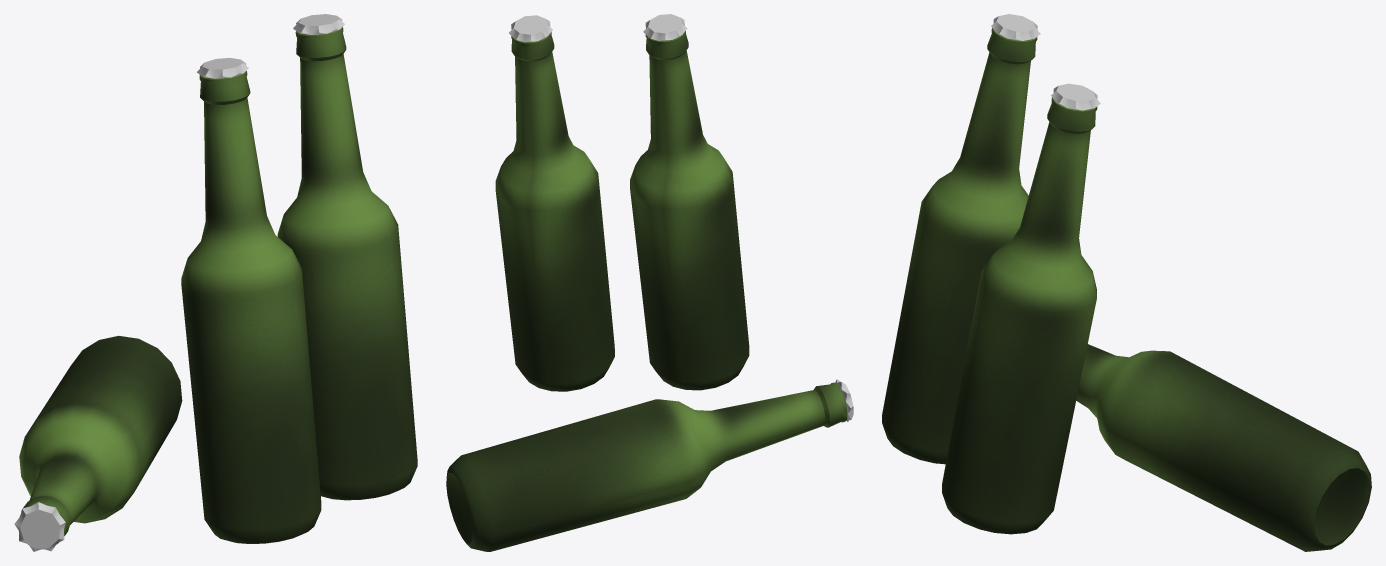
Rendered from soju15.obj.
The picture shows the model from 3 angles, left to right: view 1: azimuth 30°, elevation 25°; view 2: azimuth 150°, elevation 25°; view 3: azimuth 270°, elevation 25°; orthographic projection. The views are drawn at different scales.
Bounding box in the file's own units: 6.51 × 8.18 × 7.24.
